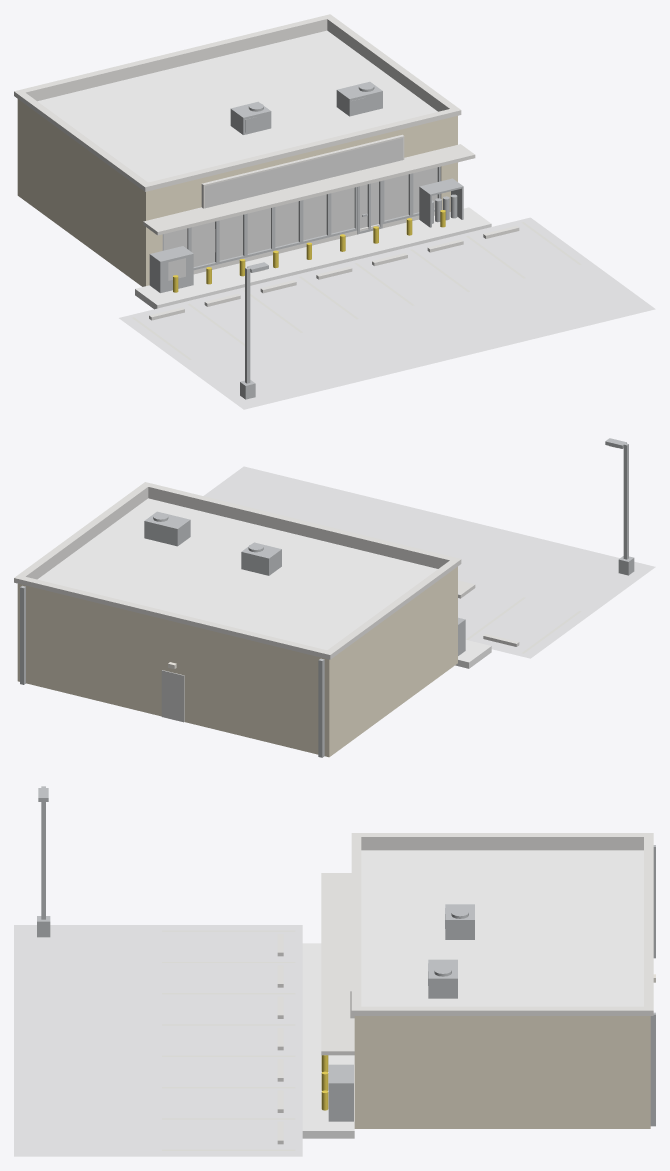
The model's file is retail_store56.glb.
3 views of the same model, one above another, from view 1: azimuth 30°, elevation 25°; view 2: azimuth 150°, elevation 25°; view 3: azimuth 270°, elevation 25° (orthographic). The views are drawn at different scales.
Visible parts, largest first — view 1: retail_store56_Asphalt, retail_store56_Roof, retail_store56_Trim, retail_store56_Walls2, retail_store56_WindowsLit, retail_store56_Site, retail_store56_Details, retail_store56_Brand, retail_store56_Walls, retail_store56_Frames, retail_store56_Paint, retail_store56_Accent; view 2: retail_store56_Walls2, retail_store56_Roof, retail_store56_Asphalt, retail_store56_Trim, retail_store56_Details, retail_store56_Doors, retail_store56_Site; view 3: retail_store56_Asphalt, retail_store56_Roof, retail_store56_Walls2, retail_store56_Trim, retail_store56_Details, retail_store56_Site, retail_store56_Paint.
Boxes of the visible parts, bbox=[...] form: retail_store56_Asphalt: bbox=[119, 217, 655, 409]; retail_store56_Roof: bbox=[37, 30, 437, 182]; retail_store56_Trim: bbox=[14, 14, 519, 320]; retail_store56_Walls2: bbox=[17, 99, 145, 286]; retail_store56_WindowsLit: bbox=[164, 167, 437, 266]; retail_store56_Site: bbox=[135, 207, 491, 309]; retail_store56_Details: bbox=[149, 81, 463, 399]; retail_store56_Brand: bbox=[168, 138, 402, 280]; retail_store56_Walls: bbox=[146, 115, 457, 285]; retail_store56_Frames: bbox=[162, 166, 440, 270]; retail_store56_Paint: bbox=[132, 222, 581, 359]; retail_store56_Accent: bbox=[173, 210, 445, 292]; retail_store56_Walls2: bbox=[17, 566, 457, 757]; retail_store56_Roof: bbox=[37, 498, 437, 649]; retail_store56_Asphalt: bbox=[203, 466, 655, 658]; retail_store56_Trim: bbox=[14, 482, 519, 659]; retail_store56_Details: bbox=[20, 438, 634, 757]; retail_store56_Doors: bbox=[161, 670, 184, 722]; retail_store56_Site: bbox=[455, 640, 491, 668]; retail_store56_Asphalt: bbox=[14, 925, 302, 1156]; retail_store56_Roof: bbox=[361, 850, 643, 1006]; retail_store56_Walls2: bbox=[354, 1016, 650, 1128]; retail_store56_Trim: bbox=[277, 833, 653, 1144]; retail_store56_Details: bbox=[37, 786, 655, 1126]; retail_store56_Site: bbox=[302, 943, 354, 1138]; retail_store56_Paint: bbox=[162, 930, 295, 1150].
Size of the model in its own units: 74 by 22.5 by 86.7.
